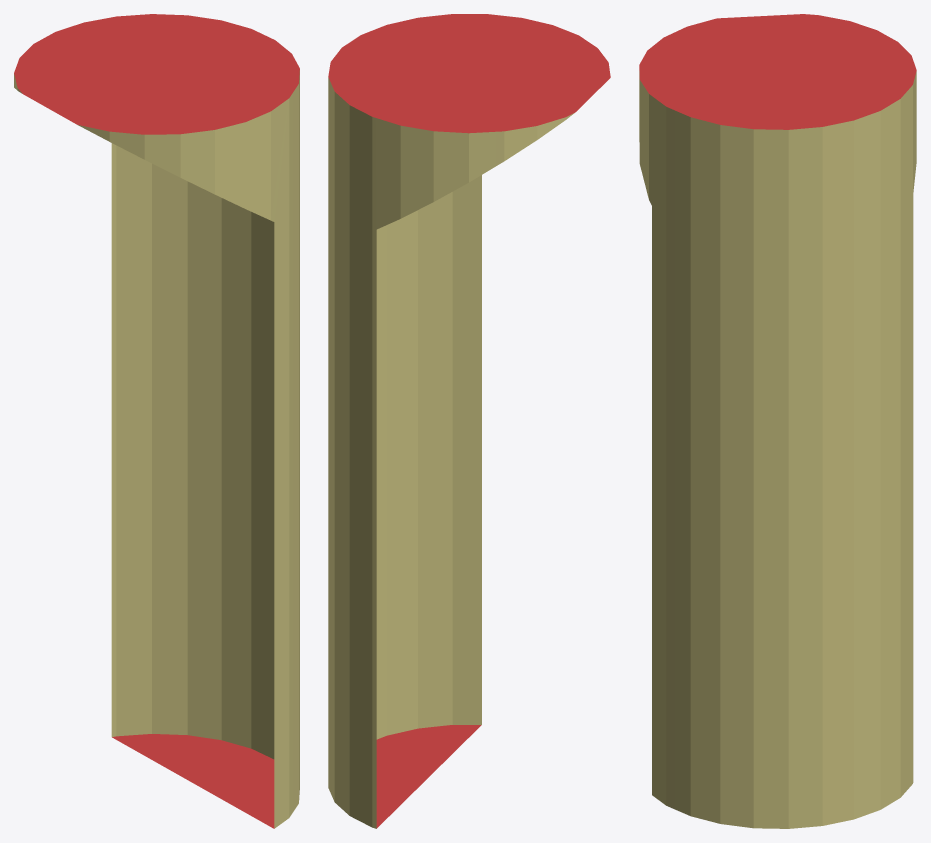
3 renders of one model, left to right at view 1: azimuth 30°, elevation 25°; view 2: azimuth 150°, elevation 25°; view 3: azimuth 270°, elevation 25°, orthographic. The views are drawn at different scales.
Bounding box in the file's own units: 3.12 × 3.15 × 8.77.
